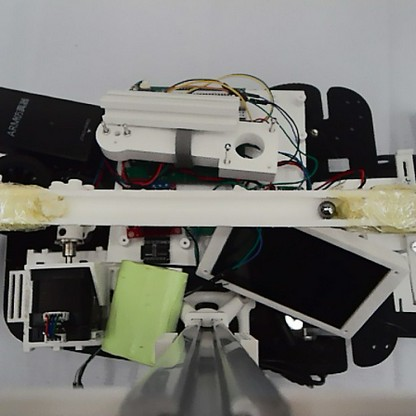ironball: (314, 197, 337, 220)
